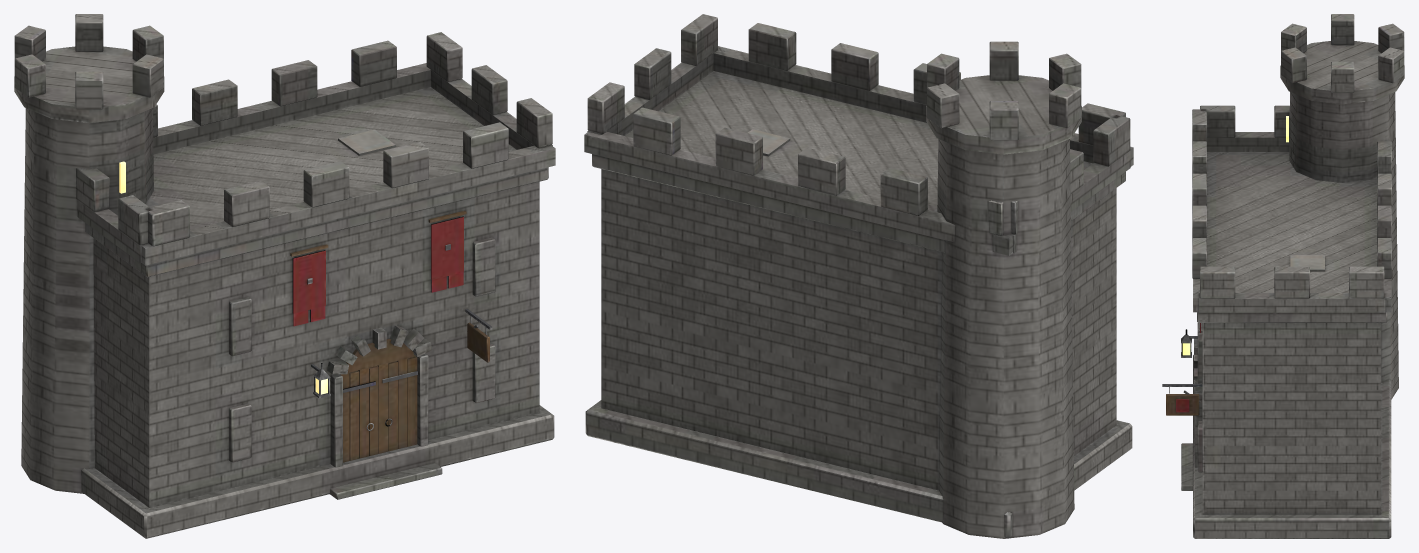
File: quartel.glb
The picture shows the model from 3 angles, left to right: view 1: azimuth 30°, elevation 25°; view 2: azimuth 150°, elevation 25°; view 3: azimuth 270°, elevation 25°; orthographic projection. The views are drawn at different scales.
Parts seen in each view (by area): view 1: quartel; view 2: quartel; view 3: quartel.
Boxes of the visible parts, bbox=[...] form: quartel: bbox=[14, 14, 555, 538]; quartel: bbox=[584, 14, 1133, 538]; quartel: bbox=[1162, 14, 1404, 538].
Bounding box in the file's own units: 10.97 × 9.85 × 6.24.
Materials: 1 (1 with a texture image).
